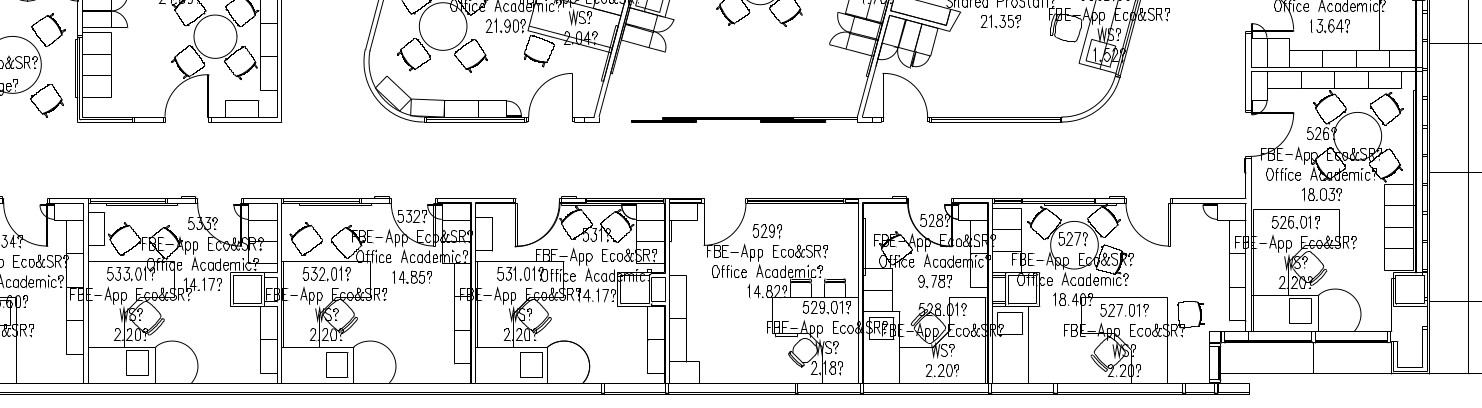door: (1236, 106, 1295, 169), (2, 193, 50, 253), (164, 69, 212, 129), (197, 191, 245, 251), (526, 67, 574, 127), (512, 193, 560, 253), (391, 192, 439, 252), (701, 189, 749, 249), (881, 69, 929, 129), (907, 196, 955, 256), (1124, 193, 1172, 253)
